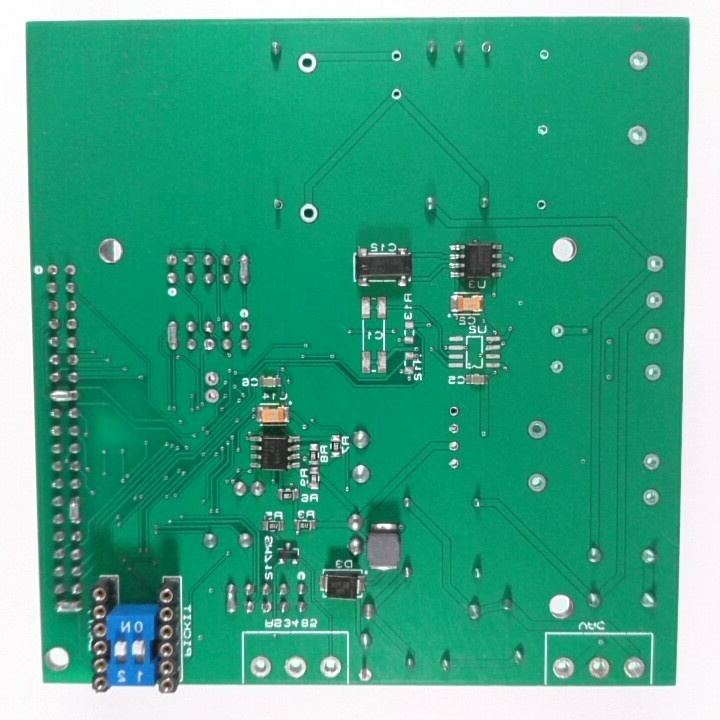F: (584, 652, 616, 682), (316, 651, 346, 680), (621, 652, 650, 681), (524, 469, 553, 497), (625, 47, 654, 75), (281, 653, 311, 680), (522, 417, 551, 444), (550, 653, 577, 681), (624, 122, 653, 148), (247, 652, 273, 678), (294, 49, 319, 76), (641, 251, 669, 275), (640, 448, 664, 475), (296, 201, 321, 226), (641, 289, 668, 312), (639, 485, 662, 509), (641, 361, 665, 383), (641, 326, 666, 347), (547, 357, 567, 377), (355, 665, 376, 683), (444, 436, 463, 455), (201, 335, 219, 355), (161, 251, 181, 269), (387, 85, 407, 103), (478, 38, 498, 56), (385, 48, 406, 65), (444, 420, 463, 438), (203, 388, 221, 406), (547, 322, 565, 340), (269, 195, 287, 213), (258, 598, 274, 618), (204, 369, 221, 386), (536, 46, 553, 63), (446, 455, 462, 473), (237, 319, 253, 337), (45, 298, 61, 315), (445, 403, 461, 420), (65, 352, 81, 368), (533, 197, 549, 213), (44, 261, 59, 278), (536, 123, 551, 138)
P: (221, 578, 239, 618), (236, 251, 254, 291), (163, 316, 181, 354), (43, 387, 83, 404), (66, 492, 84, 528), (52, 598, 85, 616)
